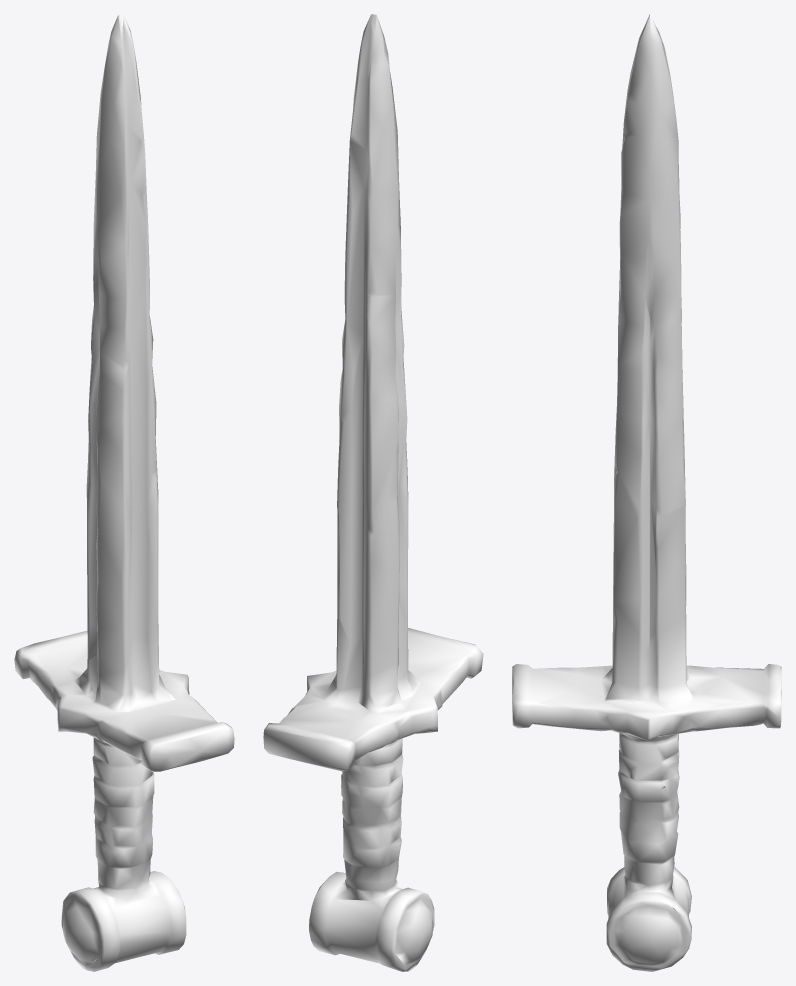
File: sword_soldier.glb
3 renders of one model, left to right at view 1: azimuth 30°, elevation 25°; view 2: azimuth 150°, elevation 25°; view 3: azimuth 270°, elevation 25°, orthographic.
Visible parts, largest first — view 1: sword_soldier; view 2: sword_soldier; view 3: sword_soldier.
Boxes of the visible parts, box(x1,y1,x2,y2) form: sword_soldier: box(14, 14, 234, 971); sword_soldier: box(263, 14, 483, 971); sword_soldier: box(512, 14, 781, 971).
Bounding box in the file's own units: 0.1371 × 0.9503 × 0.2482.
Materials: 1 (1 with a texture image).
